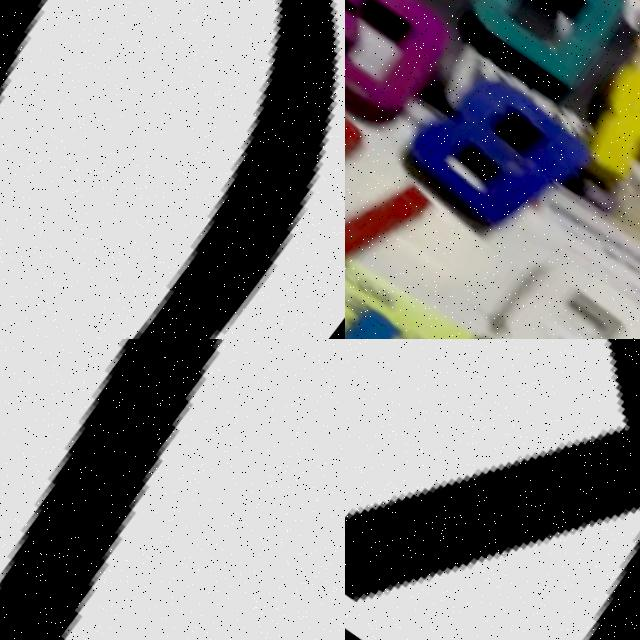0: (0, 0, 345, 339)
B: (391, 57, 605, 265)
D: (449, 0, 640, 112)
G: (345, 0, 470, 140)
I: (0, 339, 229, 640)
K: (345, 339, 640, 640)
Q: (480, 242, 640, 339)
R: (571, 53, 640, 243)
U: (345, 83, 447, 303)
